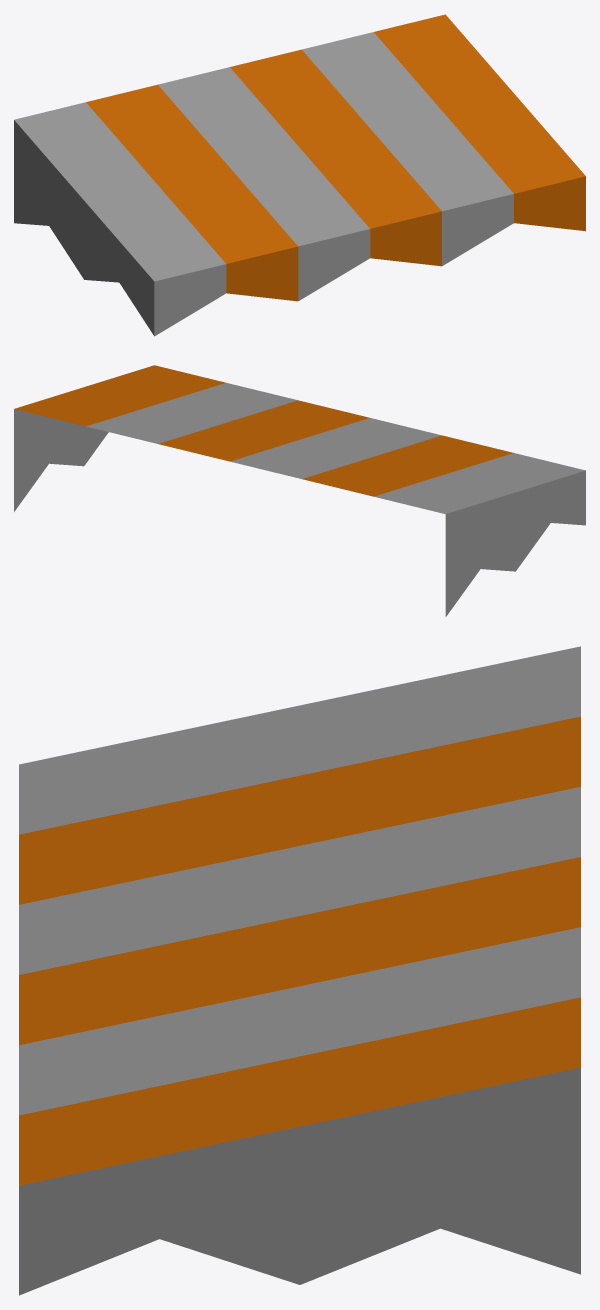
File: toldo.FBX
3 renders of one model, top to bottom at view 1: azimuth 30°, elevation 25°; view 2: azimuth 150°, elevation 25°; view 3: azimuth 270°, elevation 25°, orthographic. The views are drawn at different scales.
Parts seen in each view (by area): view 1: Plane018; view 2: Plane018; view 3: Plane018.
Boxes of the visible parts, bbox=[...] form: Plane018: bbox=[14, 14, 585, 336]; Plane018: bbox=[14, 365, 585, 616]; Plane018: bbox=[19, 646, 580, 1295].
Size of the model in its own units: 107 by 26.94 by 60.13.
